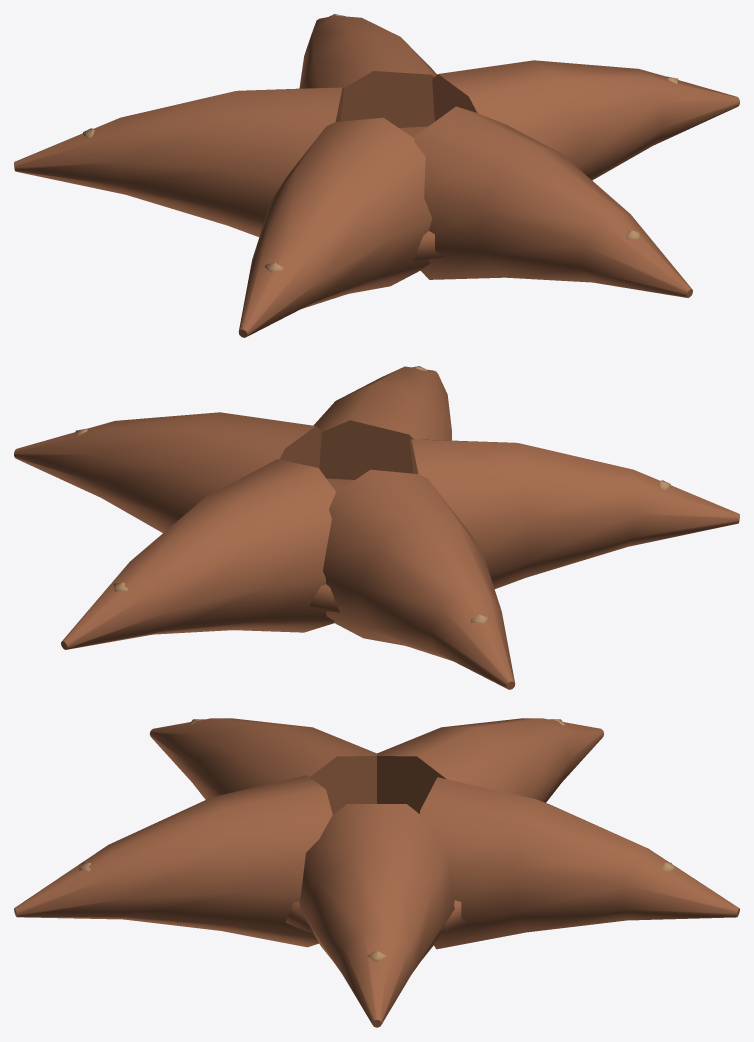
The model's file is Starfish.fbx.
The picture shows the model from 3 angles, top to bottom: view 1: azimuth 30°, elevation 25°; view 2: azimuth 150°, elevation 25°; view 3: azimuth 270°, elevation 25°; orthographic projection. The views are drawn at different scales.
Parts seen in each view (by area): view 1: Starfish crafted mesh; view 2: Starfish crafted mesh; view 3: Starfish crafted mesh.
Boxes of the visible parts, x1,y1,x2,y2 form: Starfish crafted mesh: [14, 14, 739, 337]; Starfish crafted mesh: [14, 366, 739, 689]; Starfish crafted mesh: [14, 718, 739, 1027].
Bounding box in the file's own units: 0.7093 × 0.1786 × 0.7452.
